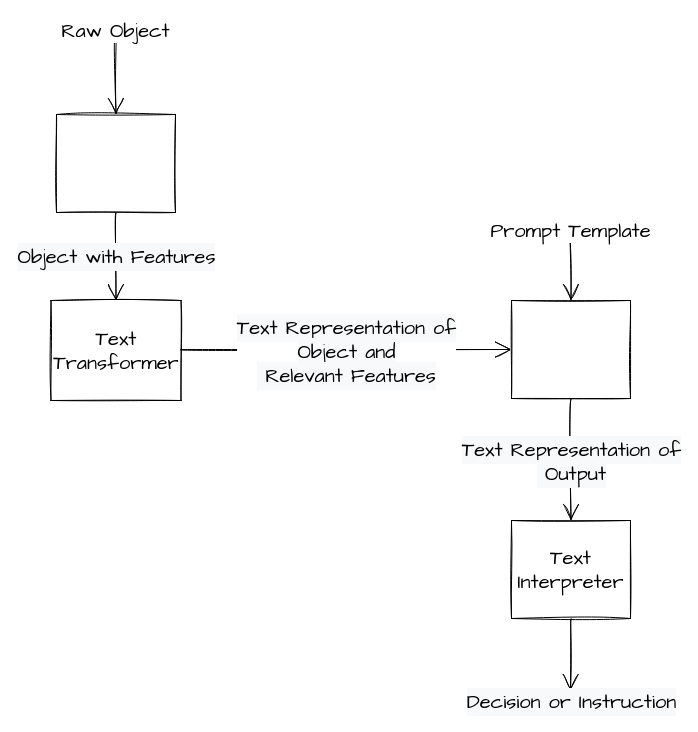
The diagram is 698 pixels wide and 732 high, and some of its shapes have lost their labels. The box of each missing label's shape, as (x1, y1, x2, y2) in pixels:
Database Lookup: (56, 114, 176, 212)
LLM: (510, 300, 630, 398)
